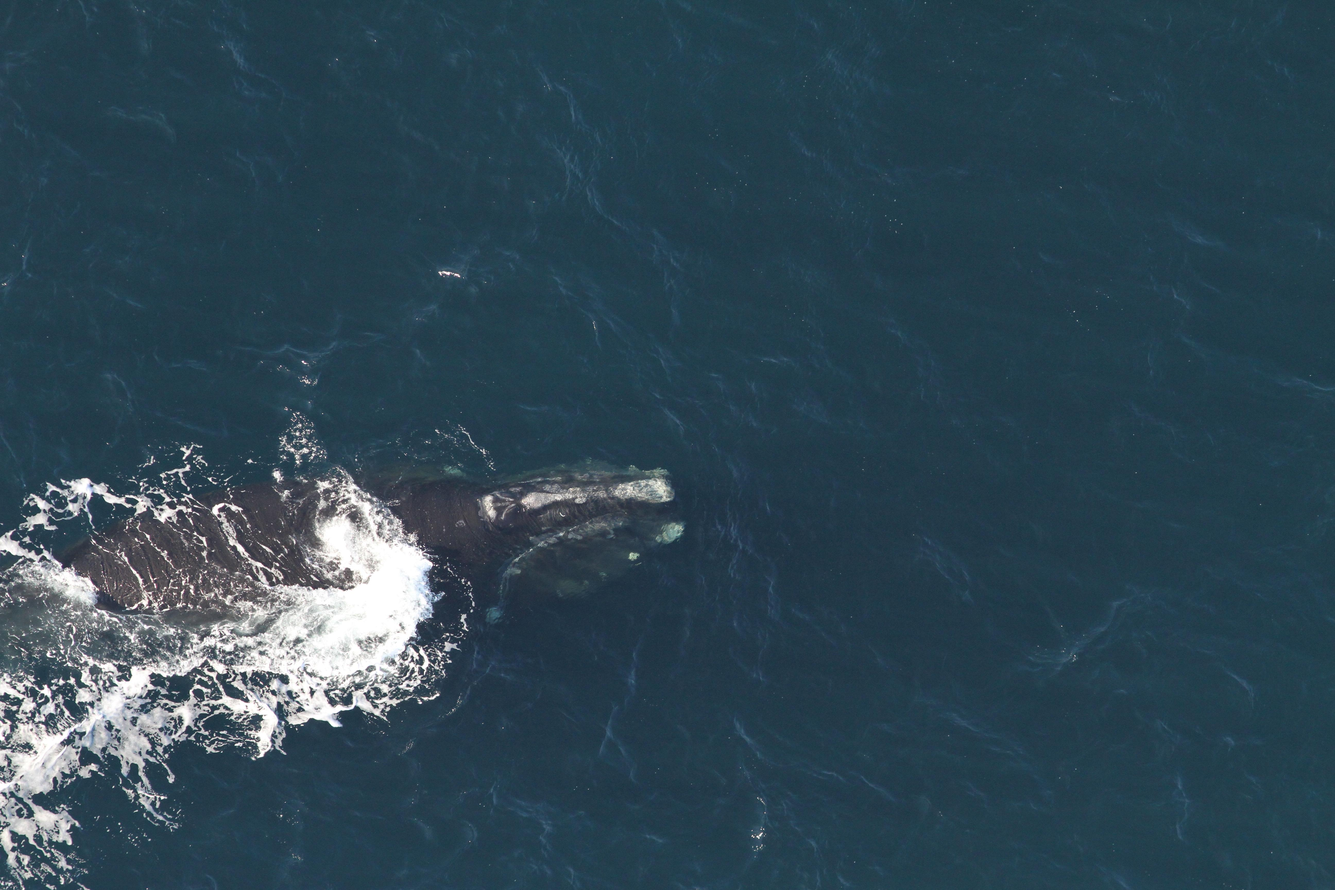whale: (0, 435, 691, 743)
